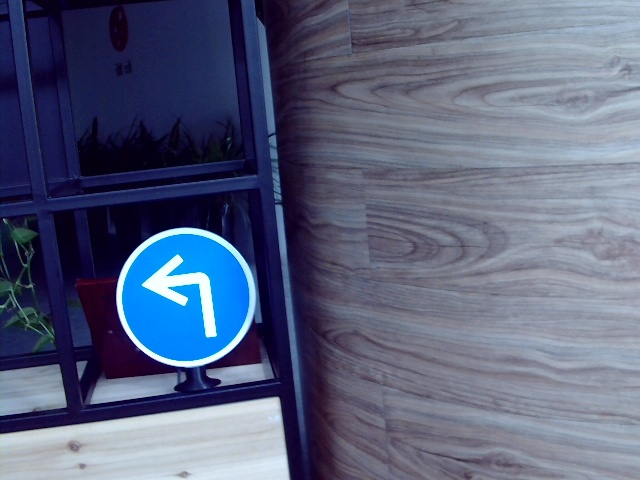turn_left: (140, 251, 218, 338)
